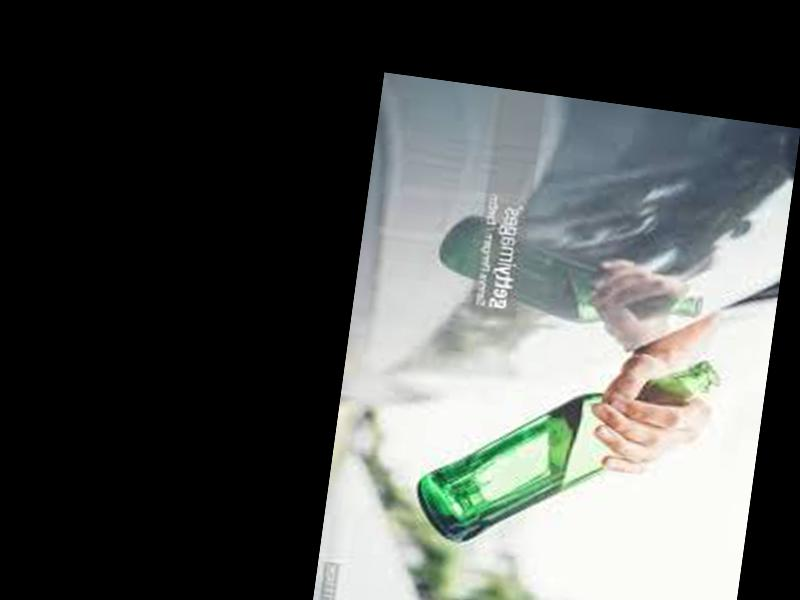Beer: (409, 321, 720, 571)
